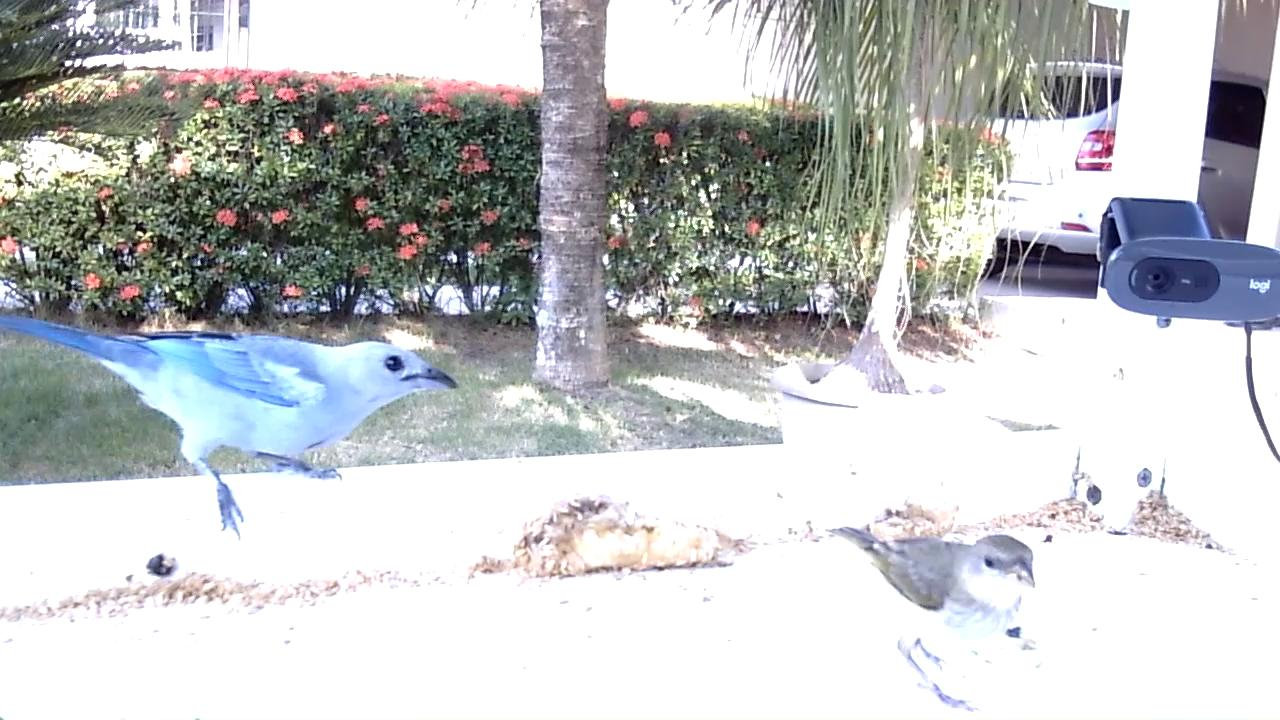canario_do_amazonas: (829, 525, 1040, 717)
sanhaco_da_amazonia: (1, 314, 463, 543)
